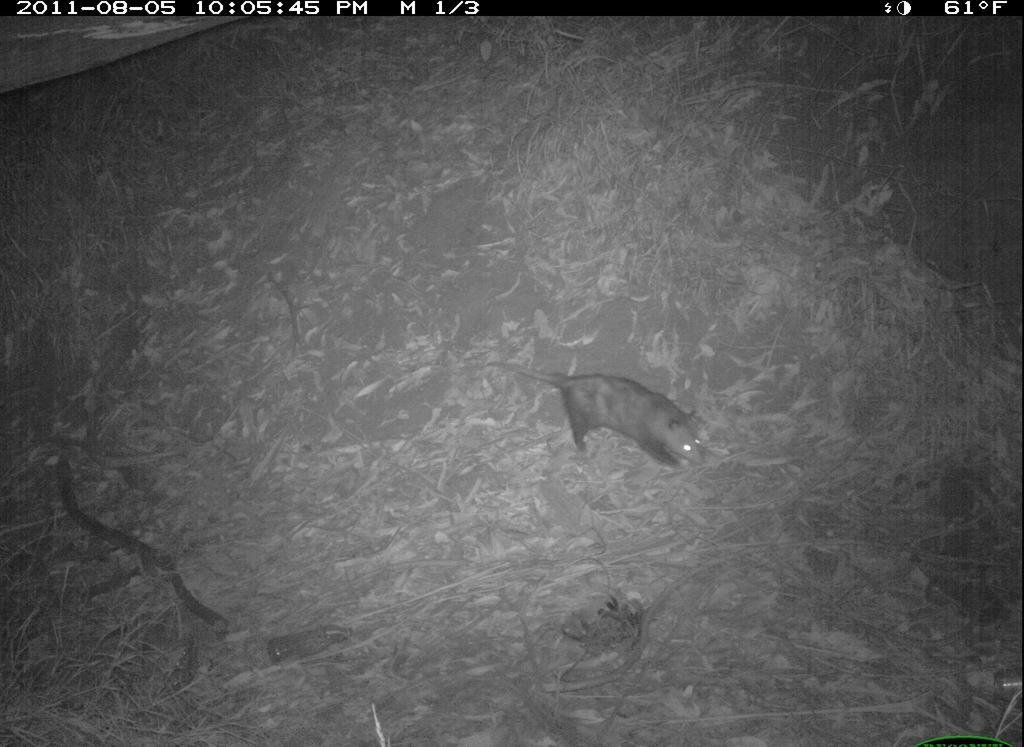opossum: (479, 349, 711, 477)
